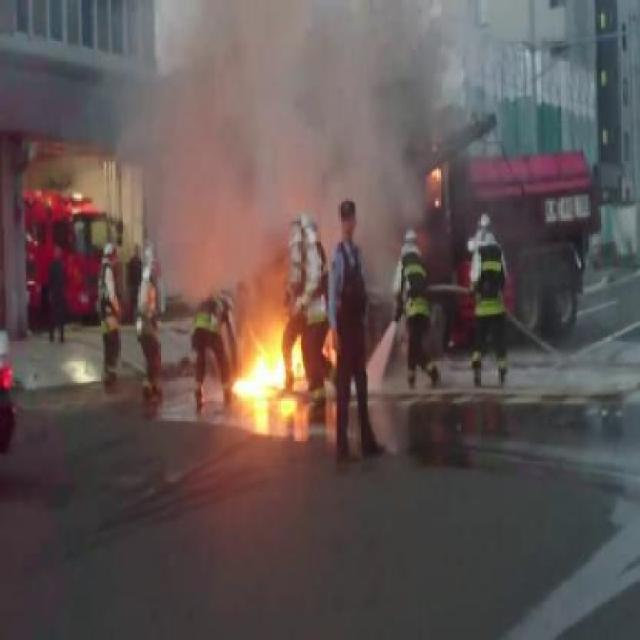Fire: (236, 328, 302, 414), (429, 166, 440, 180)
